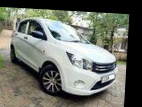car: (7, 16, 121, 101)
